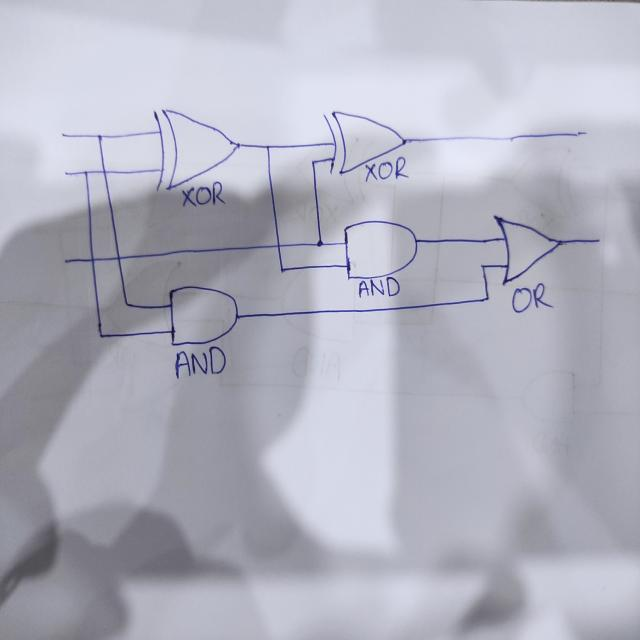crossover: (114, 251, 124, 263), (274, 240, 285, 250), (88, 255, 99, 263), (100, 167, 108, 176)
junction: (480, 292, 492, 304), (95, 328, 106, 341), (93, 130, 104, 142), (477, 261, 488, 273), (315, 236, 325, 249), (121, 298, 131, 310), (277, 264, 287, 274), (263, 141, 272, 152), (310, 158, 318, 166), (82, 168, 89, 176)
terminal: (574, 125, 594, 141), (589, 233, 605, 247), (57, 128, 69, 141), (60, 256, 70, 266), (62, 169, 69, 177)
text: (174, 344, 227, 380), (179, 179, 226, 209), (510, 282, 554, 312), (364, 155, 409, 181), (356, 274, 402, 298)
